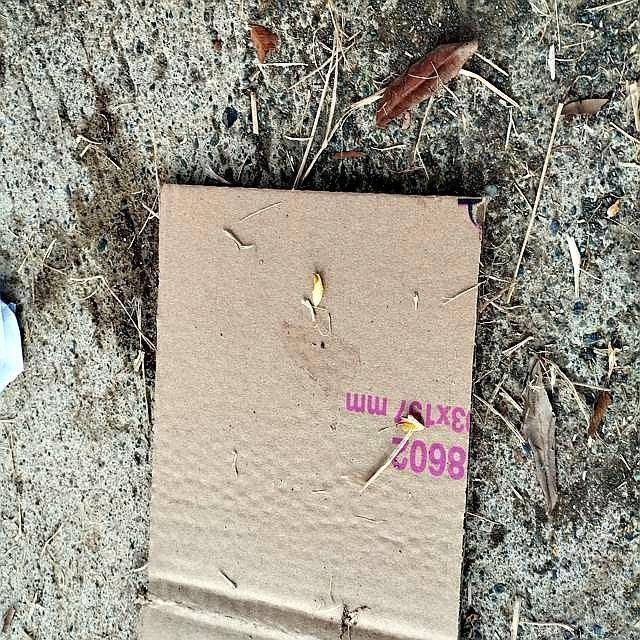Biodegradable: (128, 180, 488, 640)
